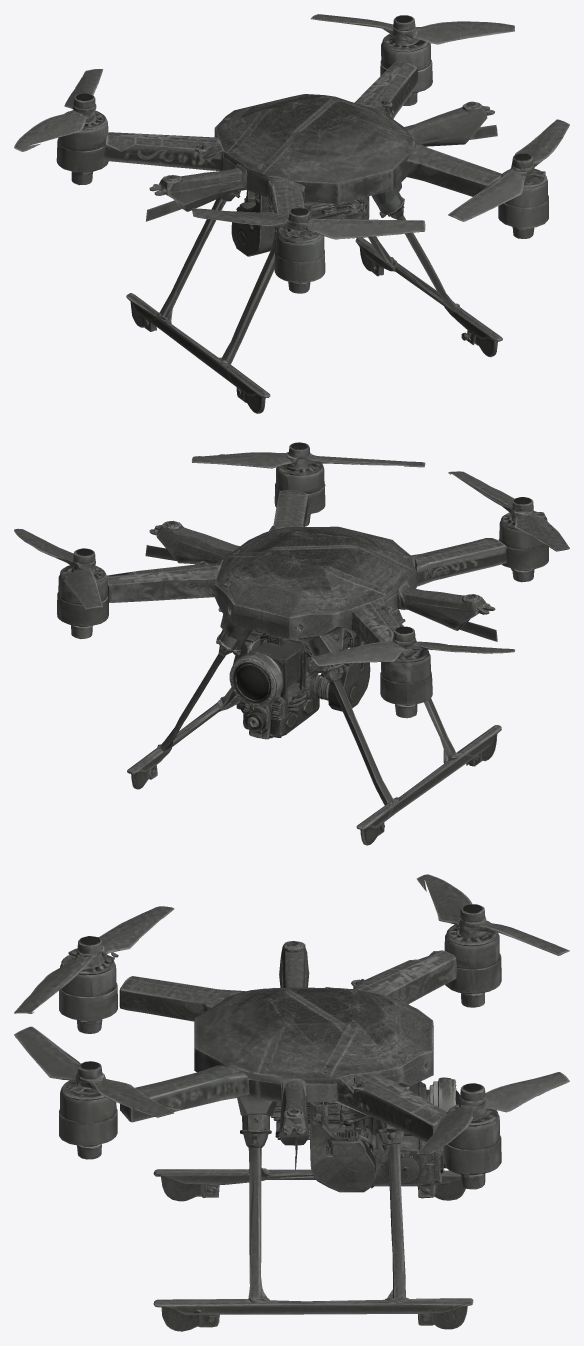
Rendered from drone_scout.glb.
The picture shows the model from 3 angles, top to bottom: view 1: azimuth 30°, elevation 25°; view 2: azimuth 150°, elevation 25°; view 3: azimuth 270°, elevation 25°; orthographic projection. The views are drawn at different scales.
Parts seen in each view (by area): view 1: drone_scout; view 2: drone_scout; view 3: drone_scout.
Boxes of the visible parts, left/top/right/bottom form: drone_scout: left=14, top=14, right=569, bottom=413; drone_scout: left=14, top=442, right=569, bottom=845; drone_scout: left=14, top=874, right=569, bottom=1331.
Bounding box in the file's own units: 1.25 × 0.559 × 1.05.
Materials: 1 (1 with a texture image).
